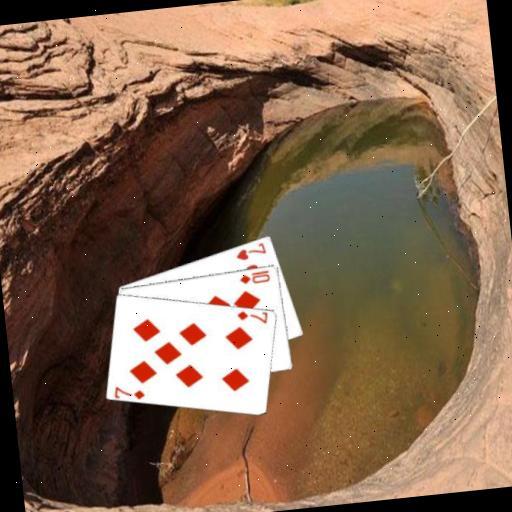10D: (236, 267, 272, 286)
7D: (111, 380, 148, 403), (234, 305, 270, 328)
7H: (232, 239, 269, 263)
